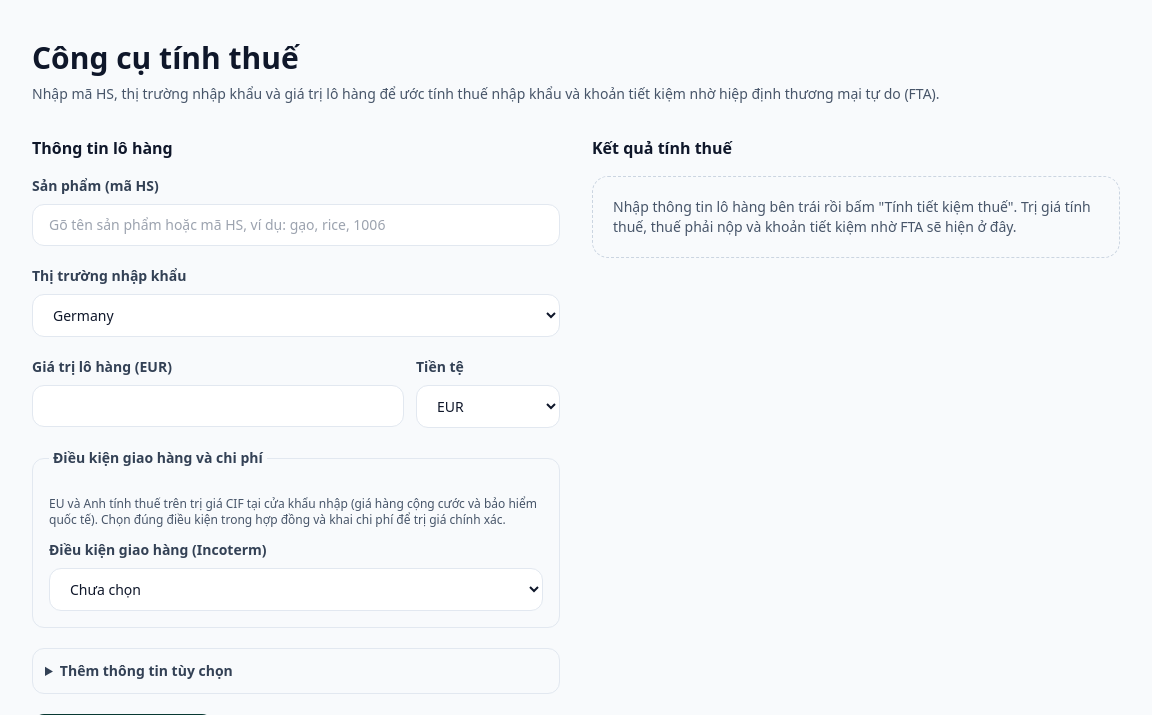
Test: Gợi ý cước và bảo hiểm (N6a) › bảo hiểm gợi ý tính theo giá trị lô hàng đã nhập
In the field labelled "Giá trị lô hàng (EUR)": (218, 406) [32,385,404,427], type "50000"
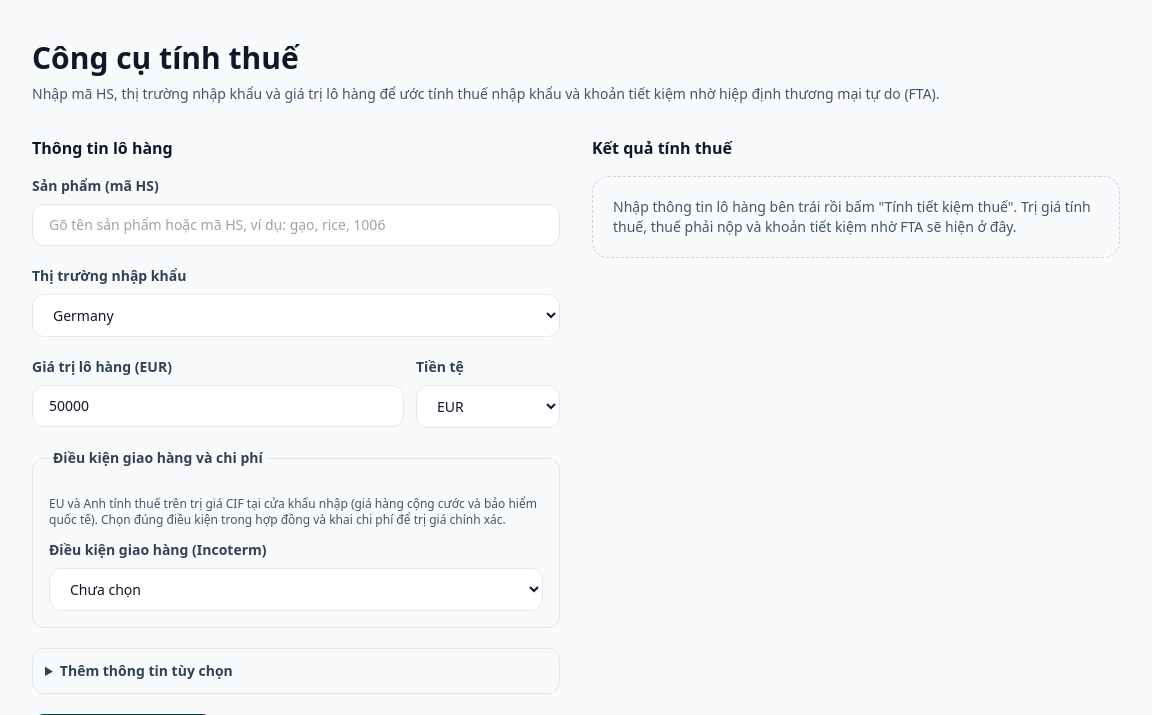
Select "FOB — Giao lên tàu" in the dropdown labelled "Điều kiện giao hàng (Incoterm)": (296, 590) [49,568,543,611]
(page scrolled)
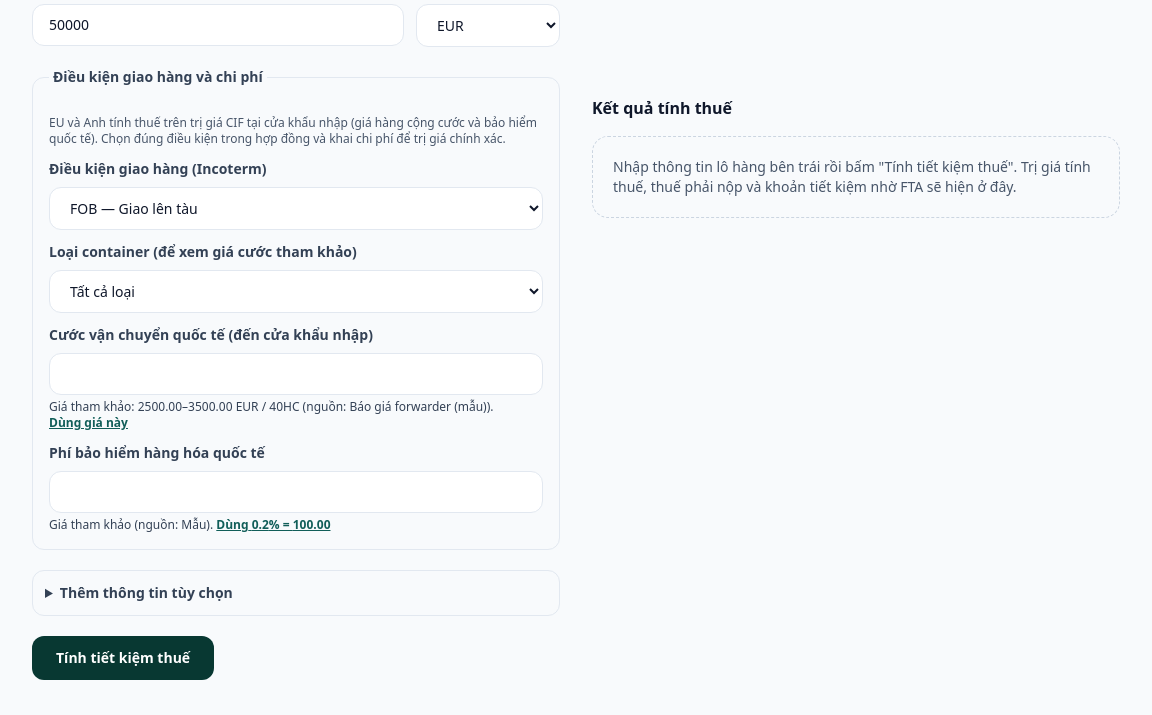
Click the button "Dùng 0.2% = 100.00": (273, 525) [216,517,330,533]
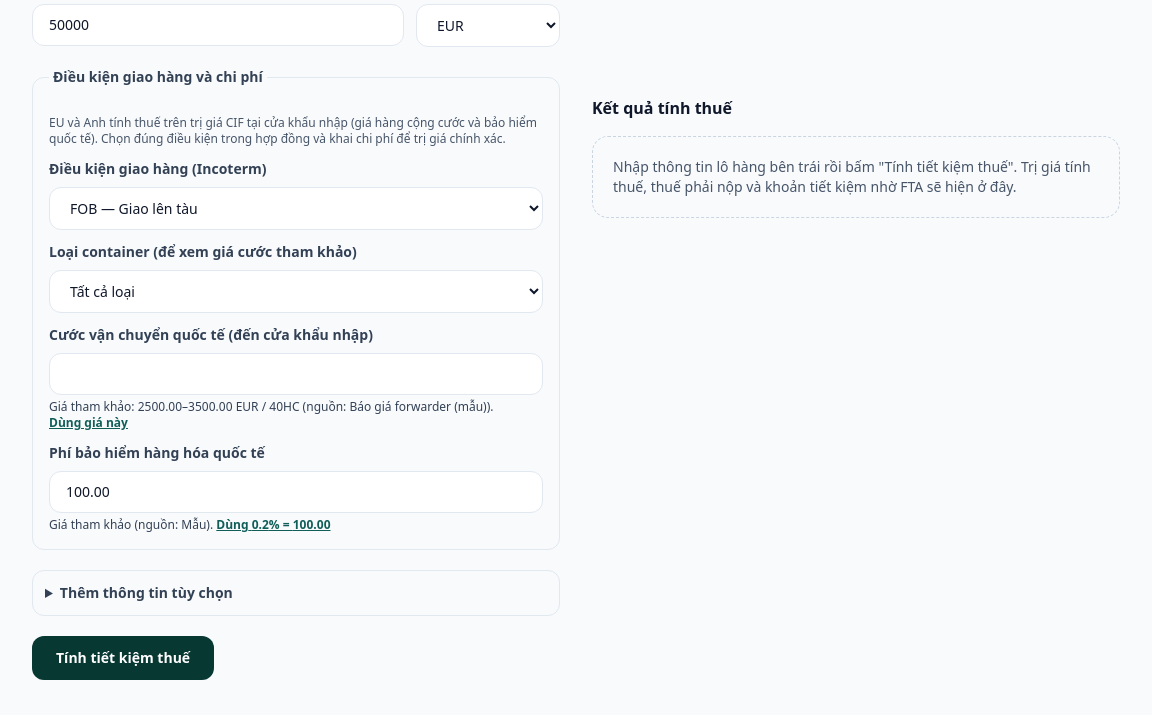
Now the field labelled "Phí bảo hiểm hàng hóa quốc tế" holds "100.00", box [49,471,543,513]
